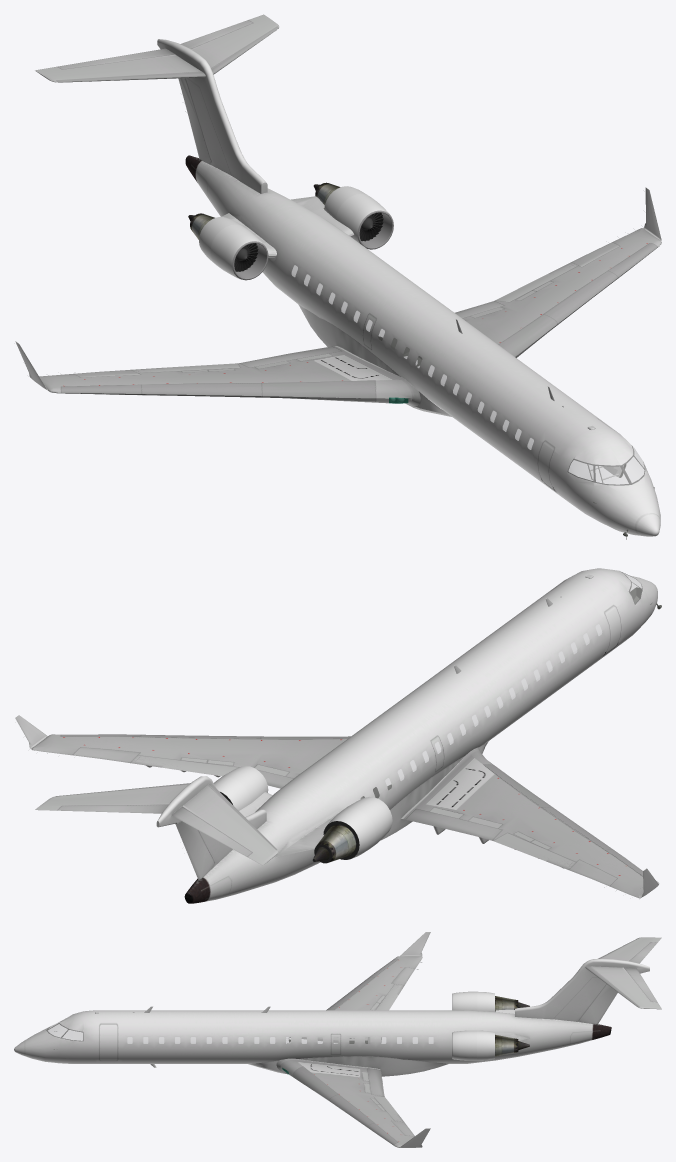
Rendered from CRJ7.glb.
3 renders of one model, top to bottom at view 1: azimuth 30°, elevation 25°; view 2: azimuth 150°, elevation 25°; view 3: azimuth 270°, elevation 25°, orthographic. The views are drawn at different scales.
Parts seen in each view (by area): view 1: Fuselage.001, Wings.001, Hstabs, Vstab.001, SlatsR, SlatsL, Belly.001, CockpitWindows, Nacelle, Windows, Nacelle.001, EnginePylons (+2 smaller); view 2: Fuselage.001, Wings.001, Hstabs, Vstab.001, FlapR1, SlatsR, Belly.001, Rudder, Windows, Nozzle, FlapL2, Nacelle (+11 smaller); view 3: Fuselage.001, Wings.001, Vstab.001, Hstabs, Belly.001, SlatsL, Windows, Nacelle.001, LeftDoor, Rudder, Winglets, Reverser.001 (+9 smaller).
Part boxes in pixels (<box>): Fuselage.001: <box>185,155,660,536</box>; Wings.001: <box>39,228,661,406</box>; Hstabs: <box>35,14,279,82</box>; Vstab.001: <box>157,39,267,193</box>; SlatsR: <box>61,380,375,401</box>; SlatsL: <box>499,243,657,357</box>; Belly.001: <box>298,304,451,416</box>; CockpitWindows: <box>568,447,644,484</box>; Nacelle: <box>210,224,265,279</box>; Windows: <box>291,265,533,449</box>; Nacelle.001: <box>336,194,390,242</box>; EnginePylons: <box>222,196,354,257</box>; Fuselage.001: <box>184,568,657,903</box>; Wings.001: <box>31,734,659,898</box>; Hstabs: <box>35,783,278,865</box>; Vstab.001: <box>156,776,266,880</box>; FlapR1: <box>405,809,501,843</box>; SlatsR: <box>483,764,642,876</box>; Belly.001: <box>381,741,488,840</box>; Rudder: <box>175,821,215,880</box>; Windows: <box>360,624,602,798</box>; Nozzle: <box>313,824,356,862</box>; FlapL2: <box>130,756,238,777</box>; Nacelle: <box>342,797,392,848</box>; Fuselage.001: <box>14,1010,611,1063</box>; Wings.001: <box>276,956,422,1147</box>; Vstab.001: <box>515,959,649,1024</box>; Hstabs: <box>585,937,661,1009</box>; Belly.001: <box>248,1037,448,1076</box>; SlatsL: <box>293,1066,397,1144</box>; Windows: <box>127,1037,433,1043</box>; Nacelle.001: <box>452,1030,476,1060</box>; LeftDoor: <box>99,1023,117,1060</box>; Rudder: <box>579,984,617,1024</box>; Winglets: <box>400,932,430,1147</box>; Reverser.001: <box>477,1030,494,1060</box>.
Bounding box in the file's own units: 23.29 × 6.09 × 32.46.
Materials: 11 (6 with a texture image).
